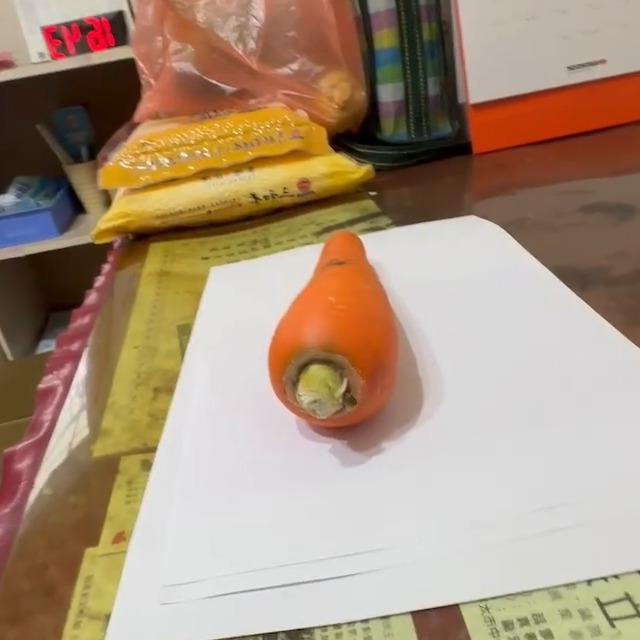carrot: (266, 229, 405, 432)
